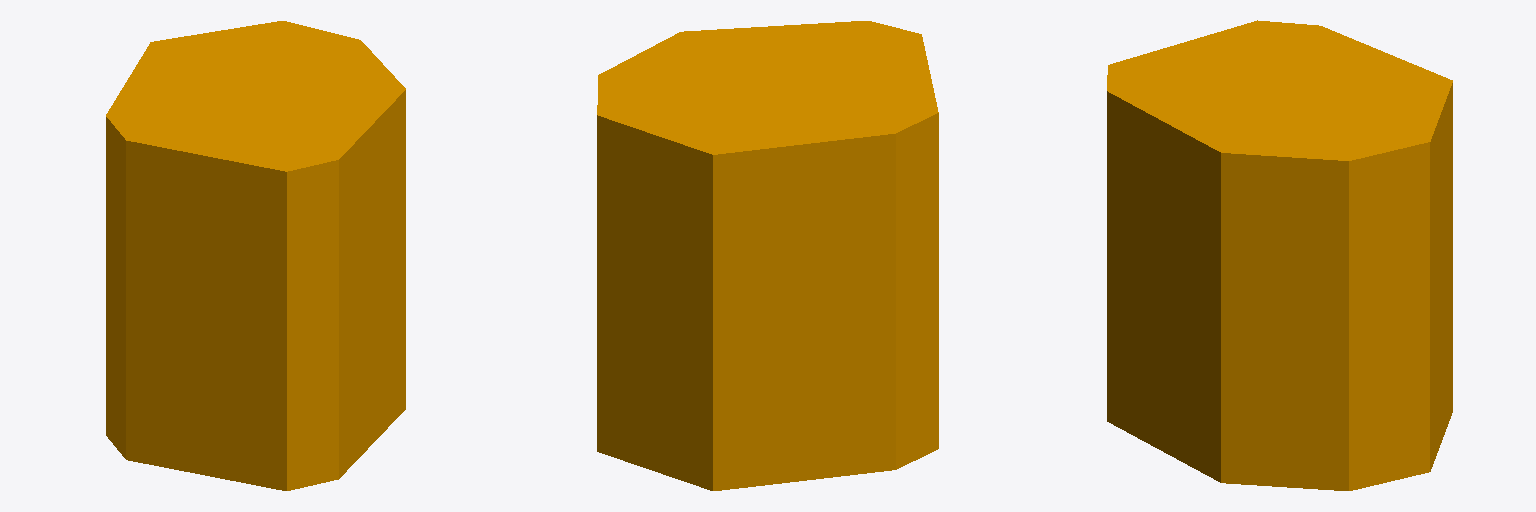
robot.urdf — object:
<?xml version="1.0"?>
<robot name="object">
  <link name="object">
    <visual>
      <origin xyz="0 0 0"/>
      <geometry>
        <mesh filename="meshes/generated/col_116.obj" scale="0.03 0.03 0.03"/>
      </geometry>
    </visual>
    <collision>
      <origin xyz="0 0 0"/>
      <geometry>
        <mesh filename="meshes/generated/col_116.obj" scale="0.03 0.03 0.03"/>
      </geometry>
    </collision>
    <inertial>
      <density value="1000.0"/>
    </inertial>
  </link>
</robot>

--- Render facts (derived) ---
The picture shows the robot from 3 angles, left to right: view 1: azimuth 30°, elevation 25°; view 2: azimuth 150°, elevation 25°; view 3: azimuth 270°, elevation 25°; orthographic projection.
Robot: object — 1 links, 0 joints (none); root link object; default pose: all joints at 0.
Visible links, largest first — view 1: object; view 2: object; view 3: object.
Link boxes in pixels (x1,y1,x2,y2): object: (106, 21, 405, 490); object: (597, 21, 938, 490); object: (1107, 20, 1452, 490).
Size in the robot's own frame: 0.0548 by 0.0571 by 0.06 metres.
1 mesh visuals loaded from 1 distinct referenced files (1 OBJ).
